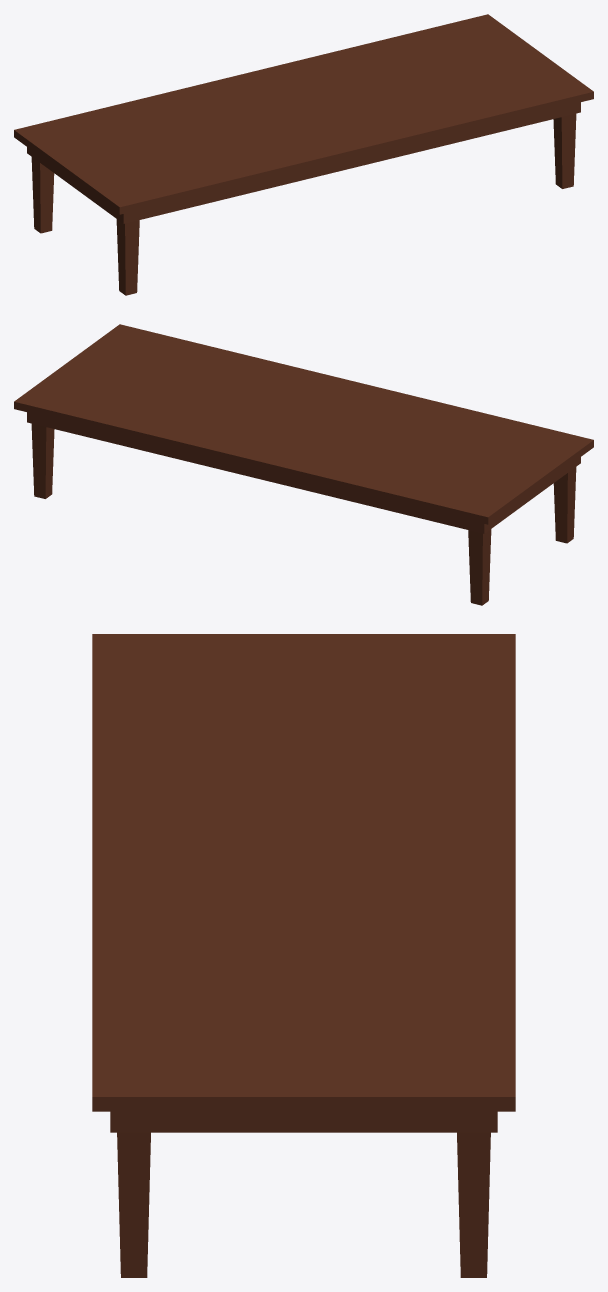
The model's file is table(2).fbx.
3 renders of one model, top to bottom at view 1: azimuth 30°, elevation 25°; view 2: azimuth 150°, elevation 25°; view 3: azimuth 270°, elevation 25°, orthographic. The views are drawn at different scales.
Parts seen in each view (by area): view 1: table(2); view 2: table(2); view 3: table(2).
Boxes of the visible parts, <box> form: table(2): <box>14,14,593,295</box>; table(2): <box>14,324,593,605</box>; table(2): <box>92,634,515,1277</box>.
Size of the model in its own units: 283 by 55.28 by 110.
